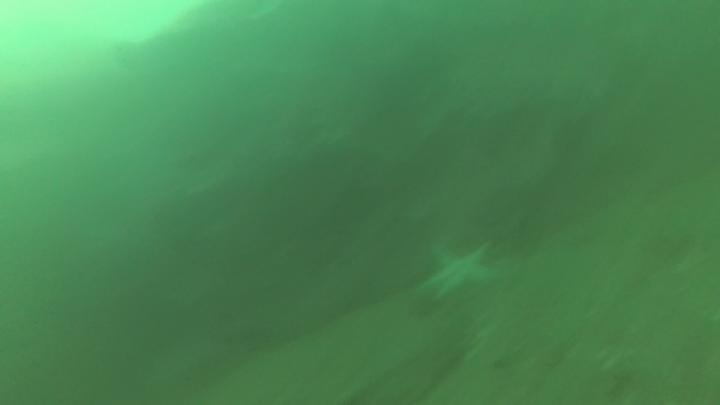starfish: (407, 236, 506, 318)
